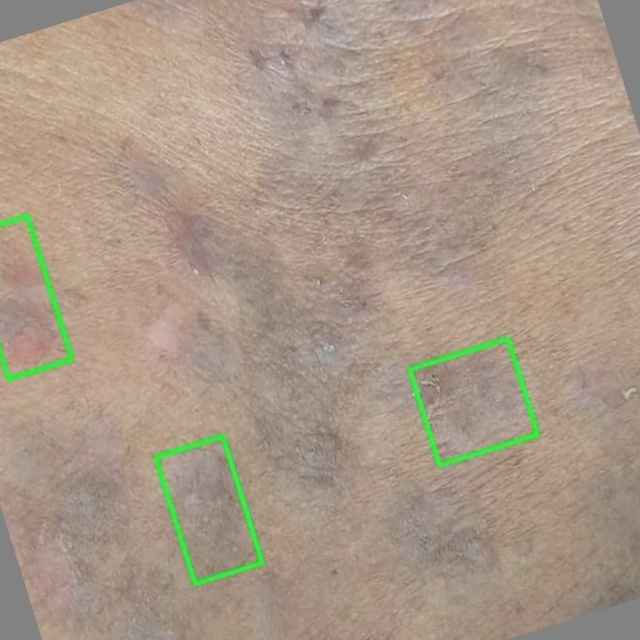Contact Dermatitis: (409, 339, 537, 465), (155, 436, 262, 584), (0, 216, 72, 379)
